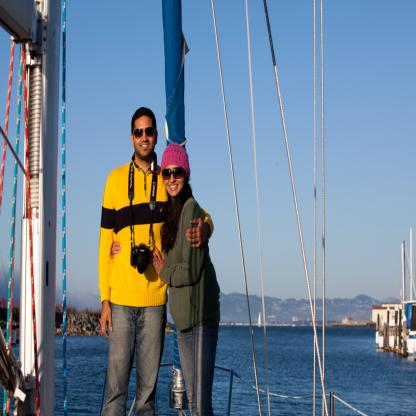Camera: (131, 244, 152, 275)
